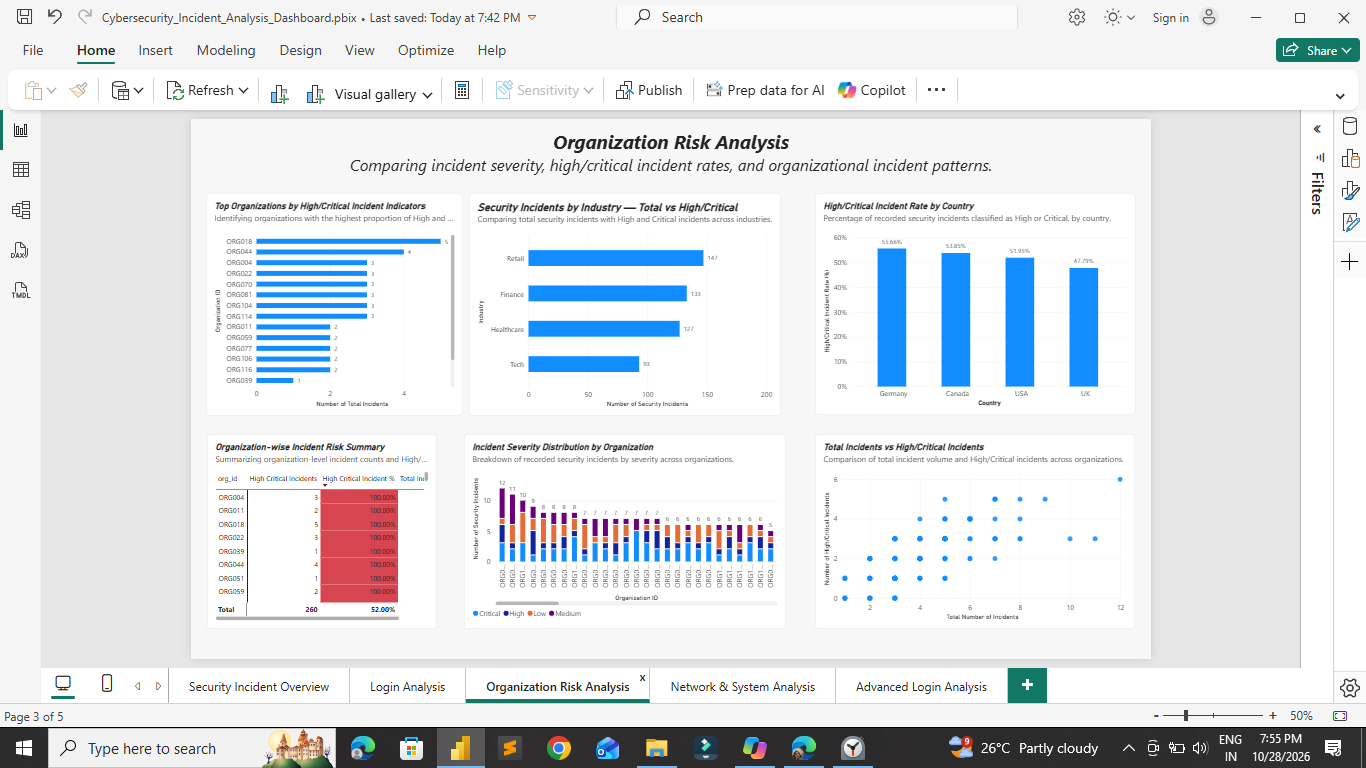

The dashboard page shown, as its layout file describes it:
{"tool":"powerbi","page":{"name":"Organization Risk Analysis","canvas":[1920,1080],"ordinal":2},"visuals":[{"type":"clusteredBarChart","title":"Top Organizations by High/Critical Incident Indicators","fields":{"Category":["organizations.org_id"],"Y":["security_incidents.Total Incidents"]},"box":[31,147.6,514.3,445.2],"z":0},{"type":"clusteredBarChart","title":"Security Incidents by Industry — Total vs High/Critical","fields":{"Category":["organizations.industry"],"Y":["security_incidents.Total Incidents"]},"box":[556,148,624,446],"z":1},{"type":"columnChart","title":"High/Critical Incident Rate by Country","fields":{"Category":["organizations.country"],"Y":["security_incidents.High Critical Incident %"]},"box":[1247.1,147.1,641.2,444.1],"z":2},{"type":"pivotTable","title":"Organization-wise Incident Risk Summary","fields":{"Rows":["security_incidents.org_id"],"Values":["security_incidents.High Critical Incidents","security_incidents.High Critical Incident %","security_incidents.Total Incidents"]},"box":[32,630,460,390],"z":3},{"type":"columnChart","title":"Incident Severity Distribution by Organization","fields":{"Category":["security_incidents.org_id"],"Series":["security_incidents.severity"],"Y":["CountNonNull(security_incidents.incident_id)"]},"box":[546,630,644,390],"z":4},{"type":"scatterChart","title":"Total Incidents vs High/Critical Incidents","fields":{"Category":["security_incidents.org_id"],"X":["security_incidents.Total Incidents"],"Y":["security_incidents.High Critical Incidents"]},"box":[1248,630,640,390],"z":5},{"type":"textbox","box":[32,20,1856,92],"z":6}]}

Visuals, with their boxes on the page's 1920x1080 design canvas (x1, y1, x2, y2). These are canvas units, not pixel positions in the 1366x768 screenshot, which may show the page scaled, cropped or inside an application window:
"Top Organizations by High/Critical Incident Indicators" clusteredBarChart: crop(31, 148, 545, 593)
"Security Incidents by Industry — Total vs High/Critical" clusteredBarChart: crop(556, 148, 1180, 594)
"High/Critical Incident Rate by Country" columnChart: crop(1247, 147, 1888, 591)
"Organization-wise Incident Risk Summary" pivotTable: crop(32, 630, 492, 1020)
"Incident Severity Distribution by Organization" columnChart: crop(546, 630, 1190, 1020)
"Total Incidents vs High/Critical Incidents" scatterChart: crop(1248, 630, 1888, 1020)
textbox: crop(32, 20, 1888, 112)
